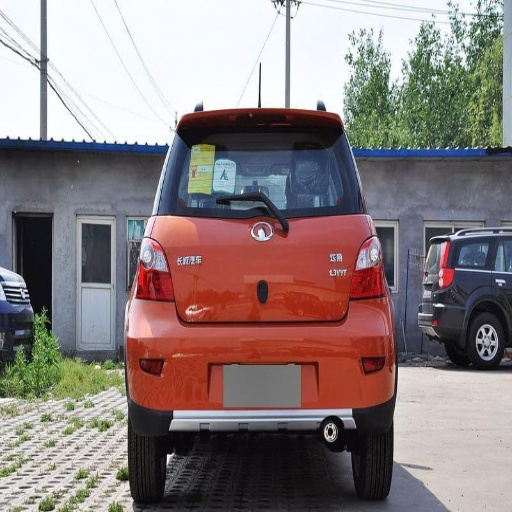back_bumper: (129, 295, 396, 432)
trunk: (137, 219, 374, 358), (461, 270, 509, 311)
